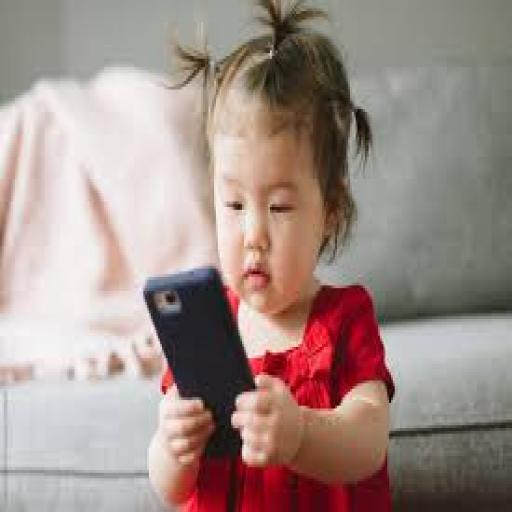phone: (146, 267, 284, 467)
